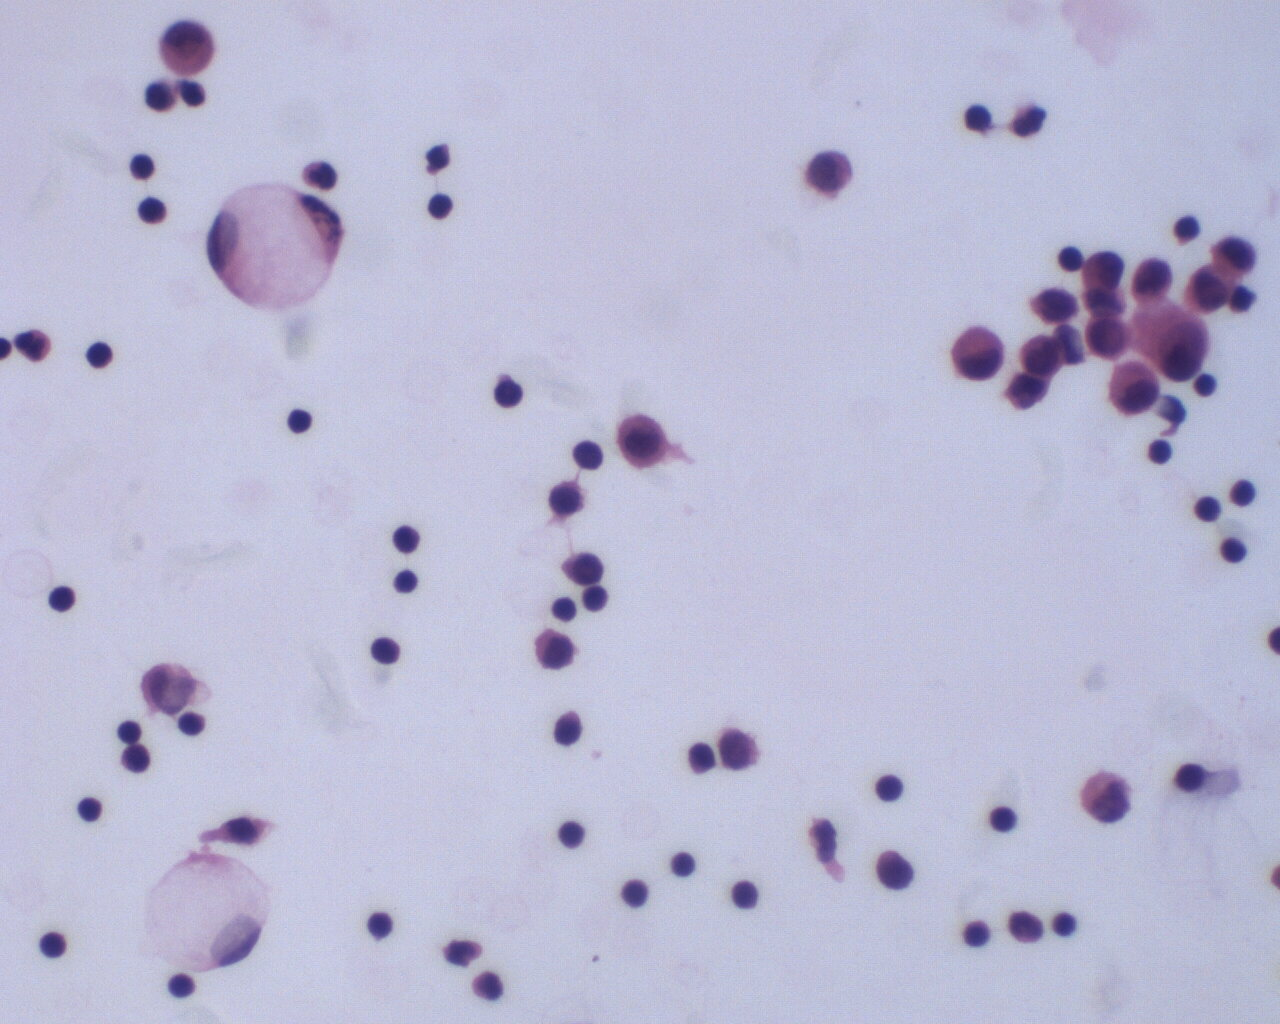ab: (1184, 264, 1240, 312), (1128, 254, 1176, 308), (1084, 312, 1133, 360), (1019, 333, 1069, 378)
histo: (207, 182, 342, 315), (142, 848, 269, 976)
lymph: (83, 333, 118, 377), (490, 372, 527, 412), (553, 816, 589, 855), (392, 518, 426, 559), (32, 926, 67, 964), (875, 770, 911, 806), (363, 636, 403, 667), (70, 789, 102, 827), (45, 578, 77, 614), (960, 920, 997, 952), (730, 876, 762, 913), (1190, 492, 1225, 526), (282, 406, 316, 439), (422, 190, 456, 223), (620, 876, 653, 908), (127, 152, 159, 183), (1216, 536, 1249, 566), (988, 804, 1019, 836), (548, 592, 578, 624)
meso: (614, 412, 671, 474), (948, 324, 1007, 382), (1104, 356, 1162, 416)
neutro: (1001, 99, 1049, 141), (11, 326, 55, 365)
